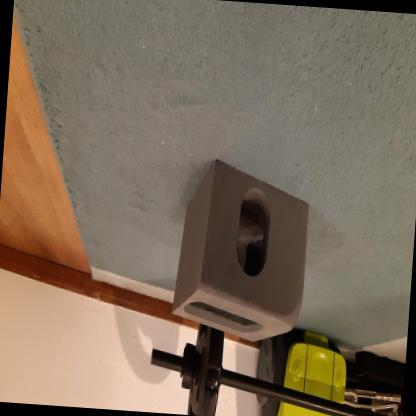CornerCasting: (168, 152, 315, 350)
